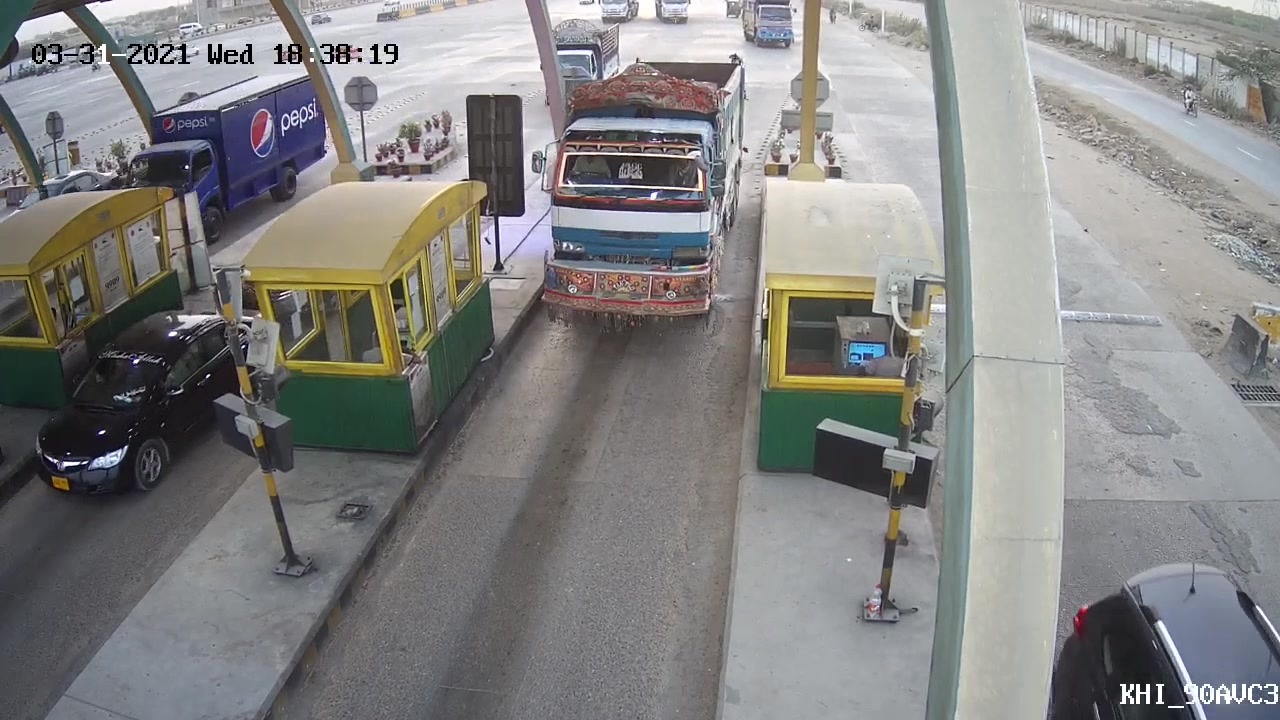F5: (519, 100, 735, 338)
